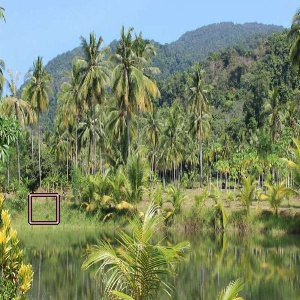square: (27, 192, 61, 226)
